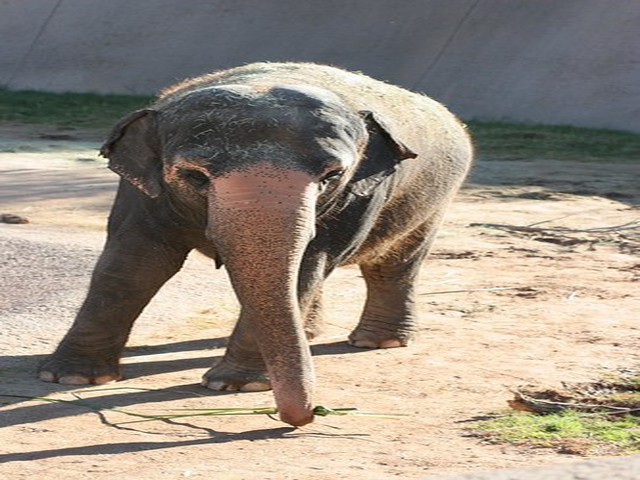Elephant: (30, 56, 483, 426)
